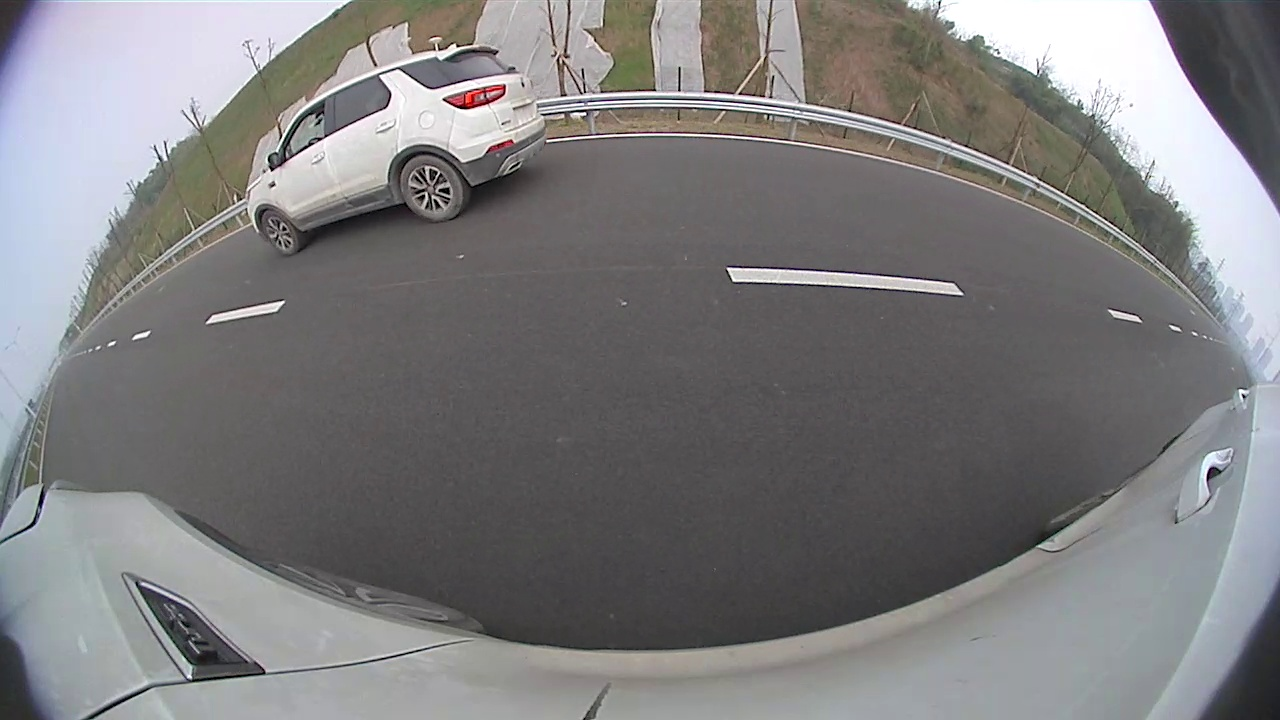car: (244, 45, 547, 255)
front: (259, 209, 300, 257)
rear: (399, 155, 464, 223)
